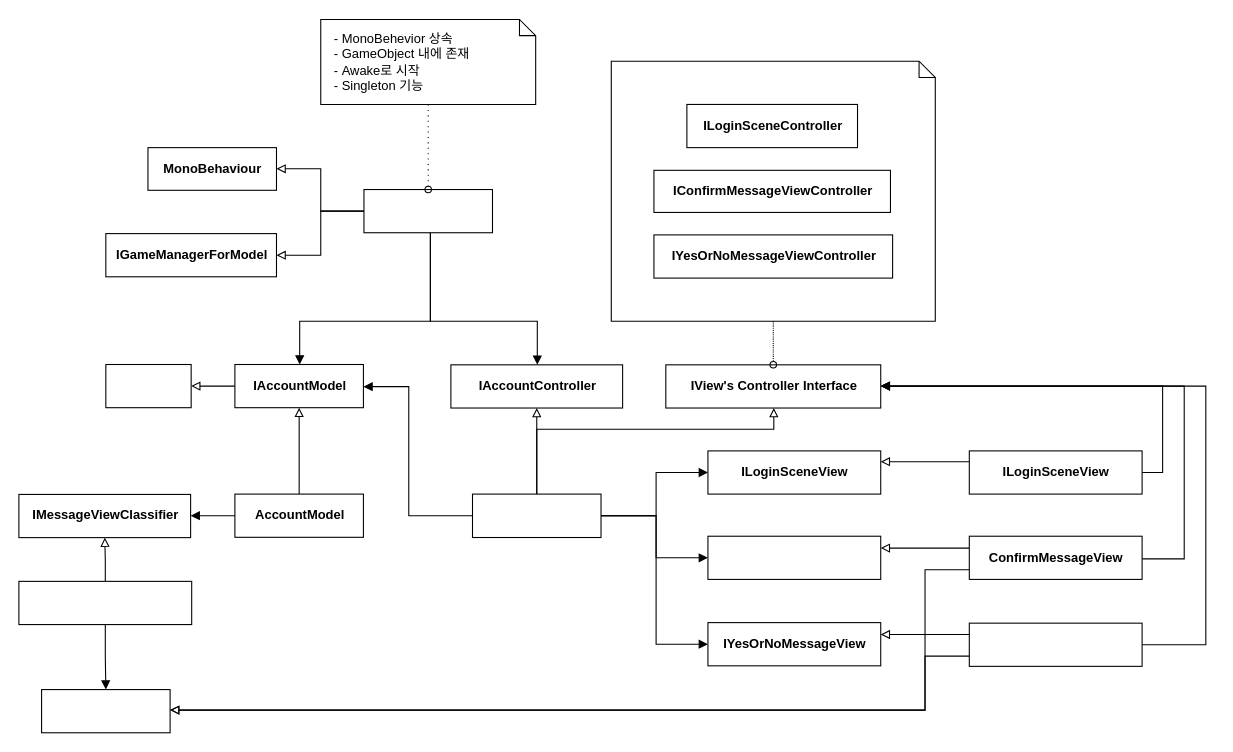
This 1233x752 diagram has some shape labels left out. The shapes that lost their labels are listed below. From the top down, each one's box as (x1, y1, x2, y2) in pixels, then its label:
(363, 188, 492, 233): GameManager
(105, 363, 191, 408): IModel
(471, 493, 601, 538): AccountController
(707, 535, 881, 579): IConfirmMessageView
(18, 580, 192, 625): MessageViewClassifier
(968, 622, 1142, 666): YesOrNoMessageView
(40, 688, 170, 733): MessageObserver
